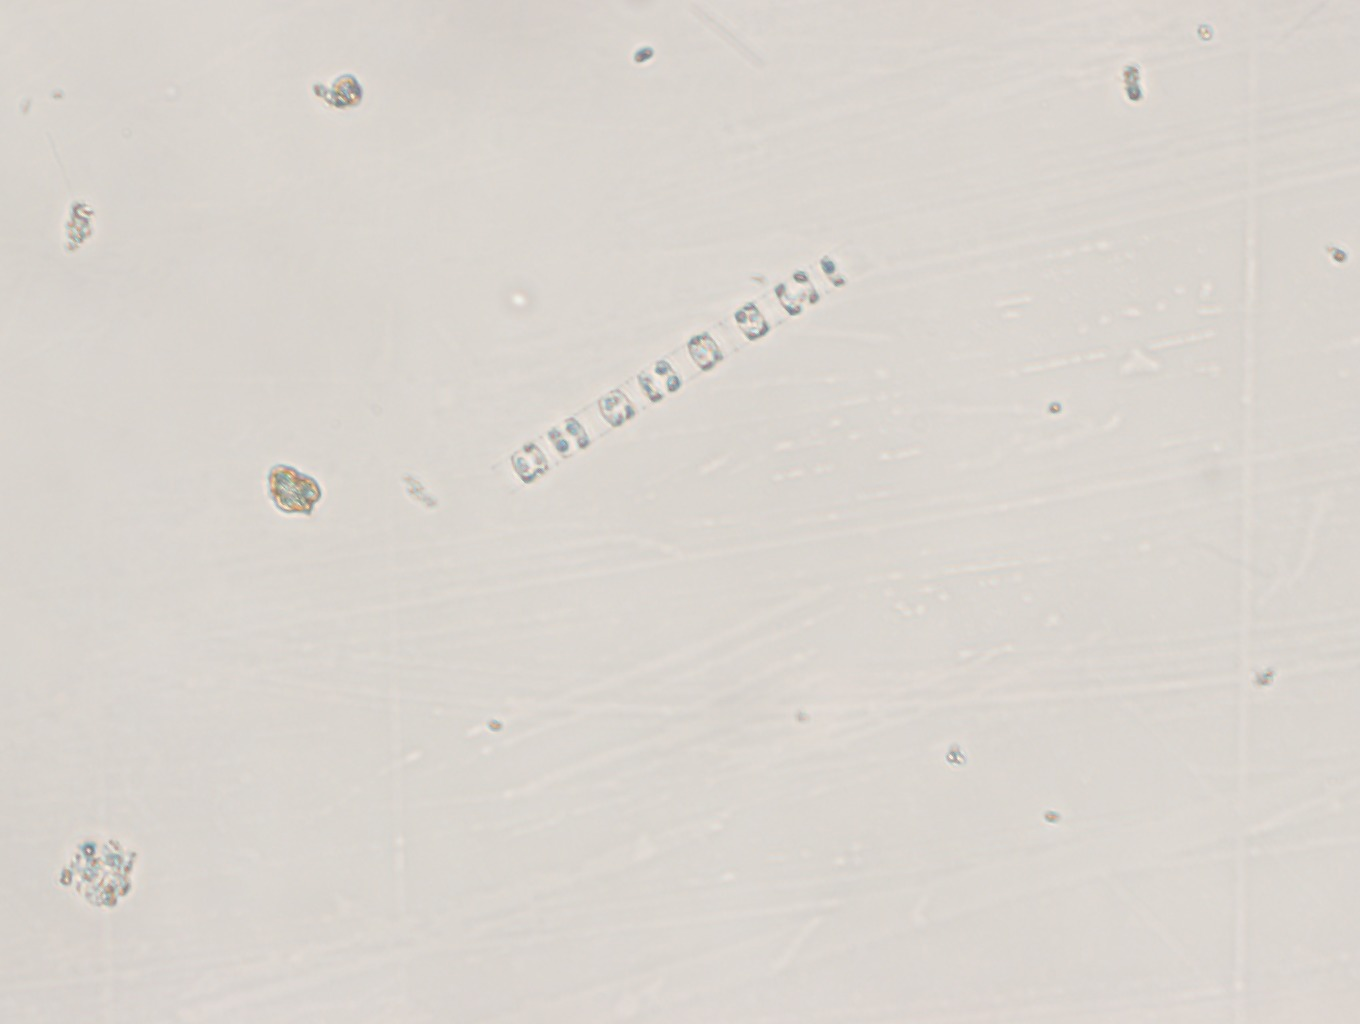skeletonema: (500, 243, 883, 496)
